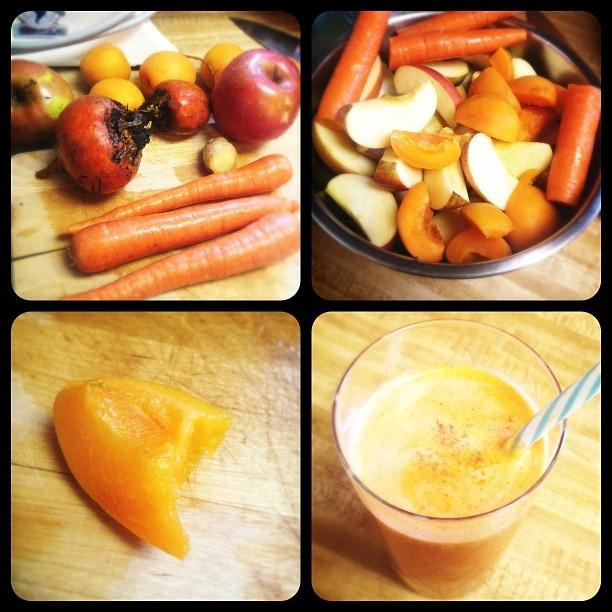apple: (210, 48, 300, 144), (336, 80, 438, 148), (11, 59, 74, 149), (325, 173, 399, 247), (460, 132, 520, 212), (392, 63, 463, 130), (311, 113, 379, 177), (424, 126, 470, 212), (493, 139, 552, 180), (374, 145, 423, 191), (433, 208, 471, 250), (418, 58, 469, 86), (357, 52, 384, 102), (377, 61, 399, 100), (420, 110, 451, 133), (512, 58, 538, 80)
carrot: (58, 210, 300, 300), (62, 154, 292, 235), (69, 197, 299, 274), (316, 10, 392, 130), (546, 83, 600, 206), (388, 28, 528, 72), (390, 11, 526, 37)
peach: (52, 376, 232, 560), (505, 181, 558, 253), (397, 181, 444, 261), (452, 94, 520, 142), (390, 130, 462, 170), (469, 67, 521, 117), (445, 227, 512, 263), (460, 203, 515, 240), (516, 105, 560, 142), (509, 76, 557, 107), (488, 47, 514, 82)
